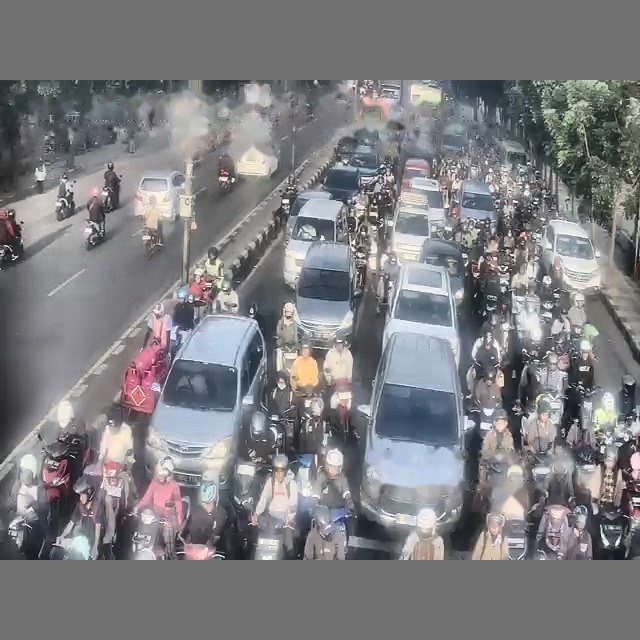Mobil: (358, 333, 464, 533), (145, 314, 266, 488), (383, 263, 460, 363), (295, 242, 362, 348), (283, 199, 347, 287), (541, 220, 600, 293), (418, 238, 464, 304), (134, 171, 184, 219), (390, 202, 430, 262), (286, 190, 331, 236), (322, 165, 376, 202), (408, 177, 445, 225), (459, 180, 497, 222), (235, 145, 278, 177), (498, 140, 528, 171), (401, 157, 430, 187), (349, 145, 381, 171), (440, 123, 467, 153), (335, 136, 359, 163), (353, 127, 379, 145)
Motor: (132, 509, 166, 559), (275, 345, 298, 373), (84, 219, 104, 249), (141, 228, 159, 258), (55, 196, 74, 221), (218, 169, 235, 193)
